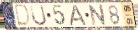5: (51, 5, 66, 27)
8: (108, 4, 121, 26)
A: (69, 4, 89, 26)
D: (15, 4, 31, 28)
N: (87, 4, 108, 27)
U: (29, 4, 48, 27)
